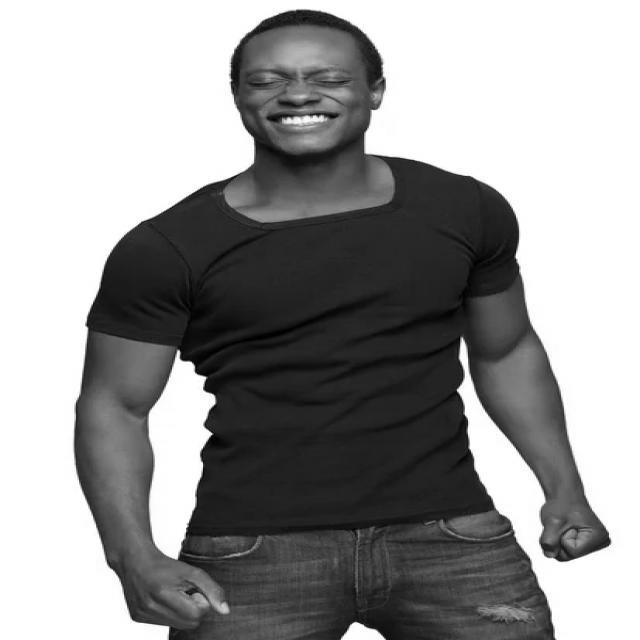real: (230, 8, 389, 157), (230, 63, 376, 93)
